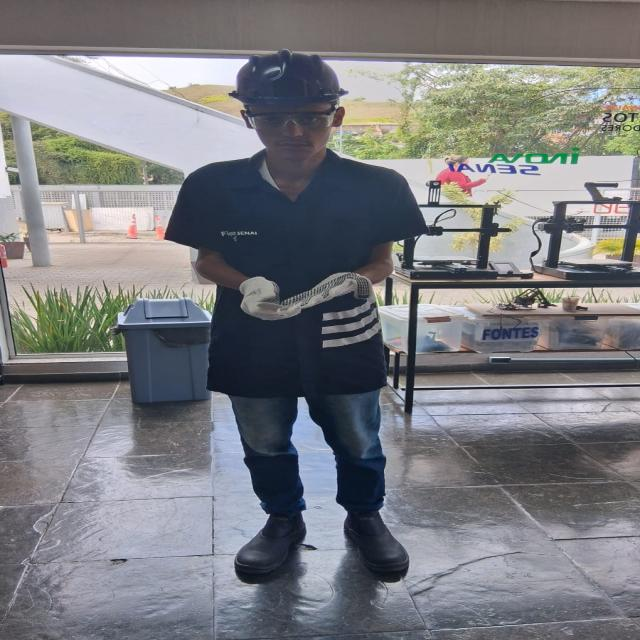BOTA: (235, 507, 315, 573), (340, 505, 412, 576)
CAPACETE: (223, 50, 358, 105)
JALECO: (158, 144, 438, 399)
LUVA: (279, 270, 375, 314), (239, 271, 305, 324)
OCULOS: (239, 105, 341, 129)
